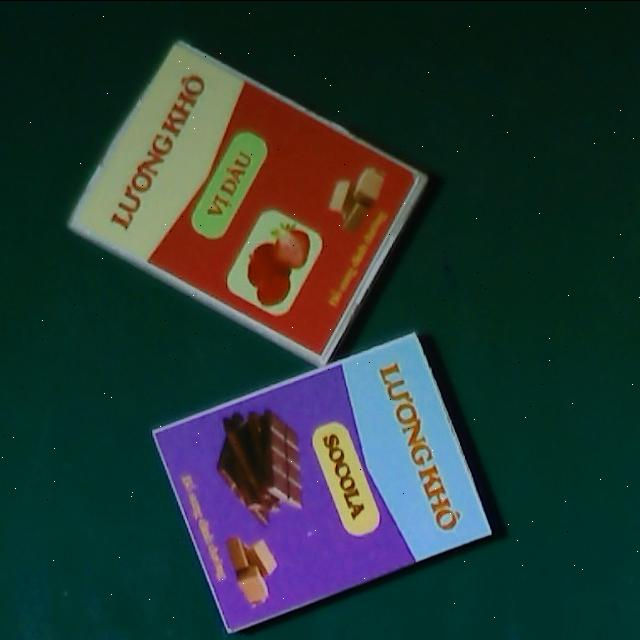dau: (64, 30, 435, 374)
socola: (150, 329, 495, 635)
